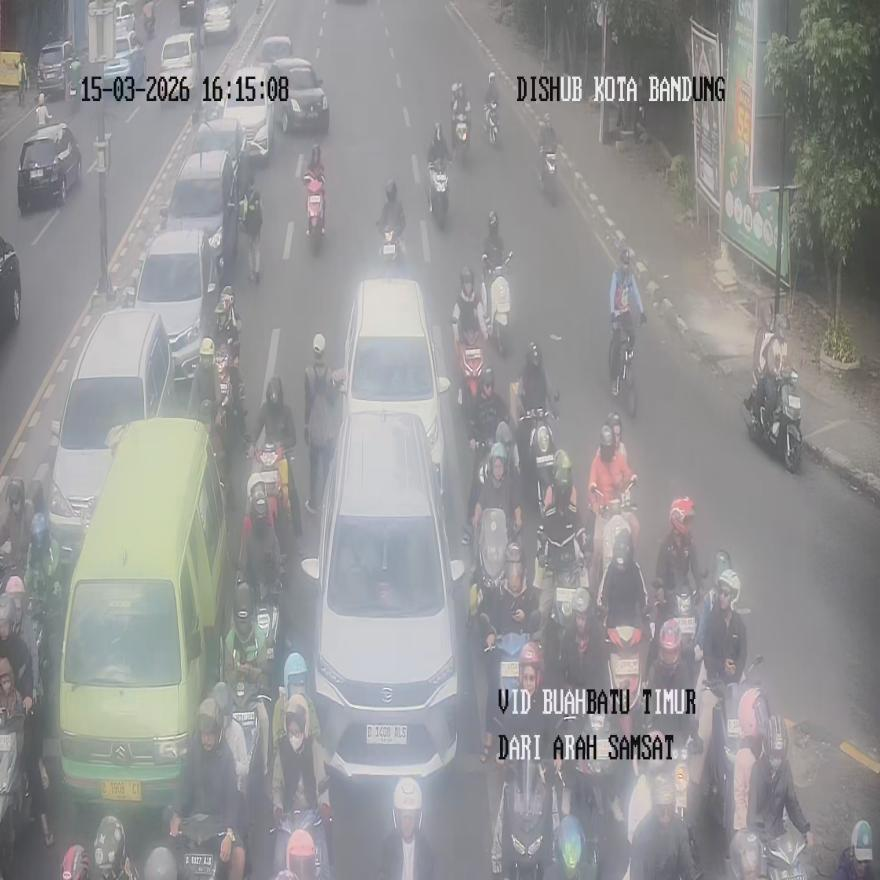Motor: (55, 416, 232, 812), (301, 409, 465, 781), (48, 308, 178, 563), (341, 276, 448, 499), (124, 226, 222, 381), (17, 121, 80, 211)
Truk: (698, 656, 766, 851), (495, 754, 547, 878), (228, 583, 279, 708), (510, 381, 559, 510), (591, 477, 640, 603), (744, 368, 802, 473), (536, 522, 587, 627), (0, 706, 30, 877), (246, 439, 294, 542), (726, 824, 813, 880), (273, 808, 332, 880), (604, 616, 645, 715), (476, 507, 512, 604), (483, 252, 511, 355), (609, 316, 637, 416), (456, 330, 484, 409), (240, 189, 262, 283), (305, 174, 324, 250), (429, 160, 449, 229), (538, 144, 557, 205), (378, 222, 400, 264), (453, 111, 470, 164), (484, 102, 498, 146), (143, 2, 155, 39)
